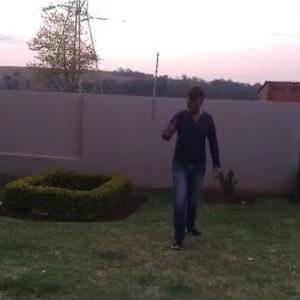takeoff-hand: (158, 111, 181, 140)
